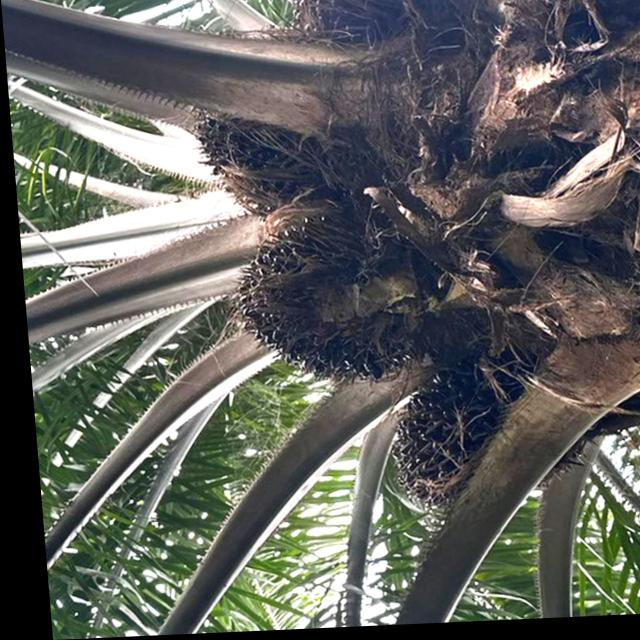unripe: (218, 206, 422, 392), (372, 376, 527, 519), (185, 98, 340, 216)
